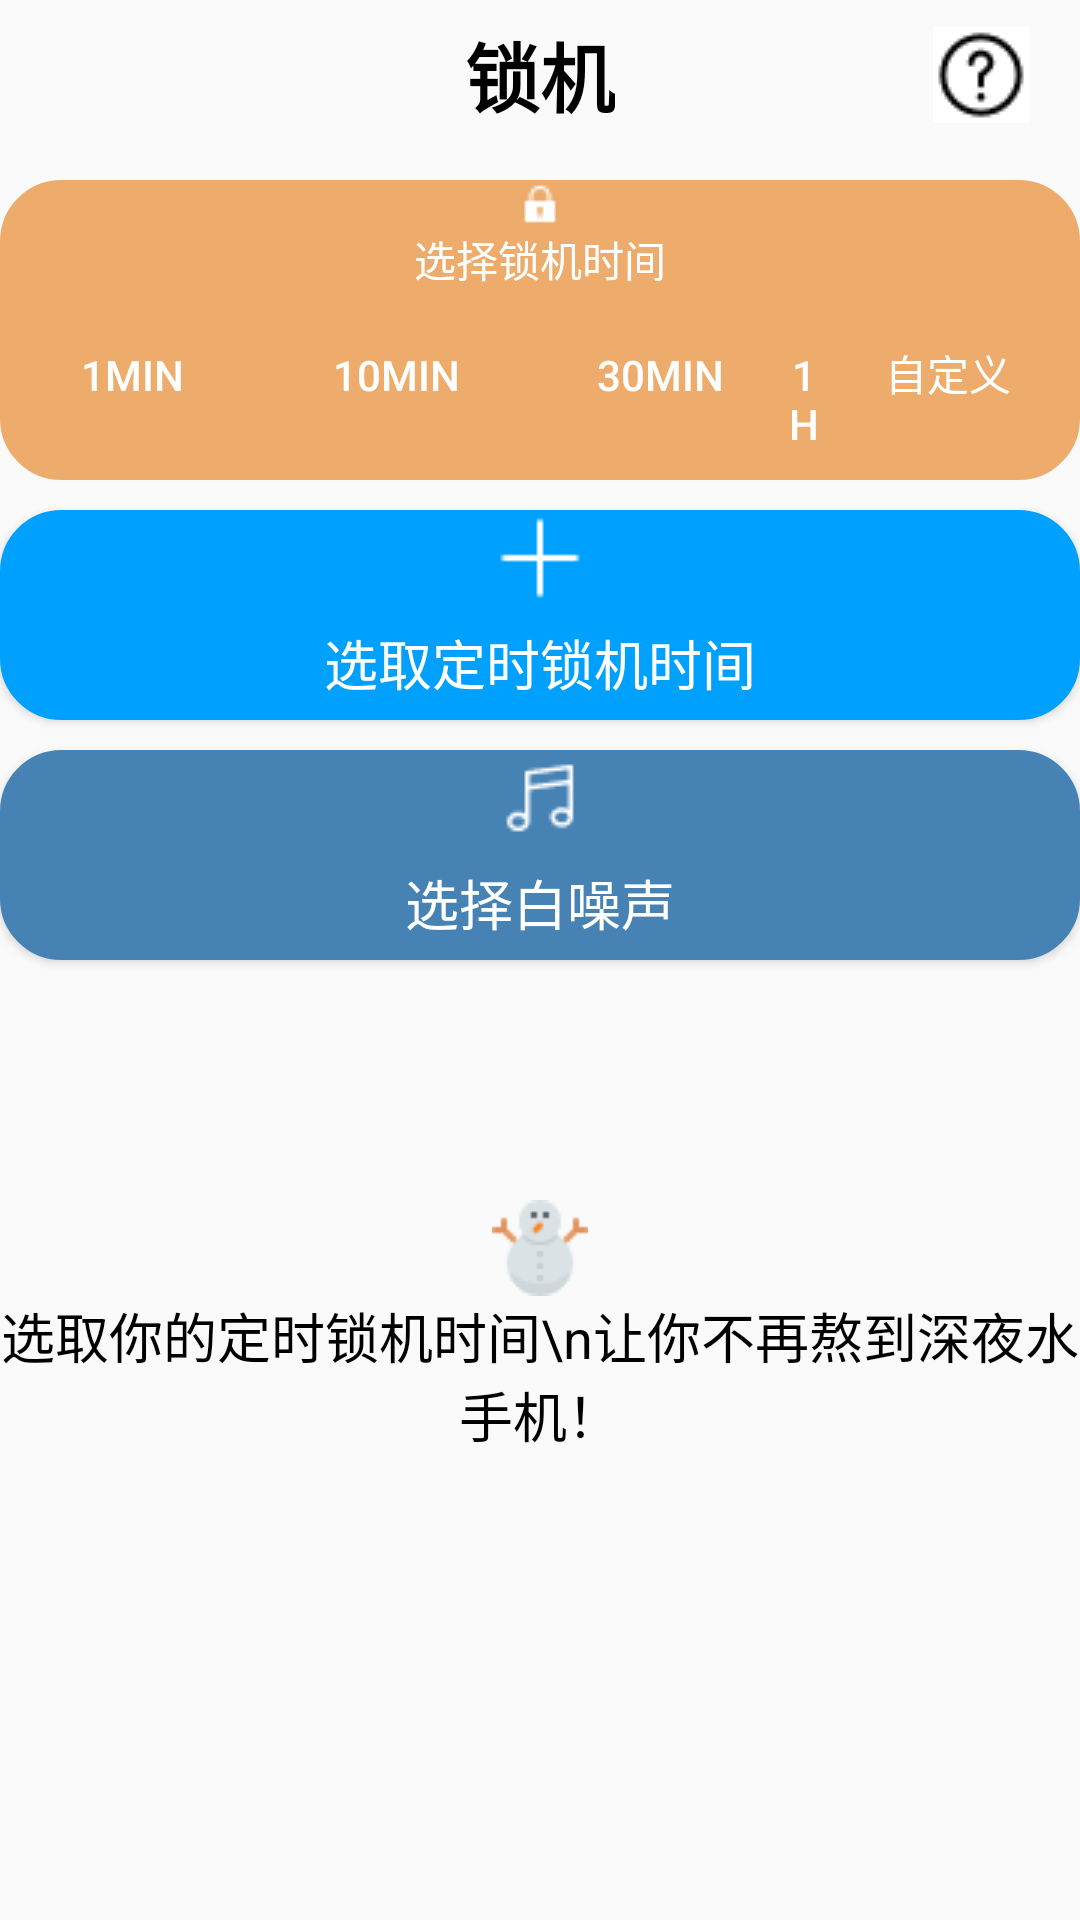

Point at icon controls on the screen. Image size 1080×1920, points as (x,y).
help: (981,75)
iceman: (540,1248)
